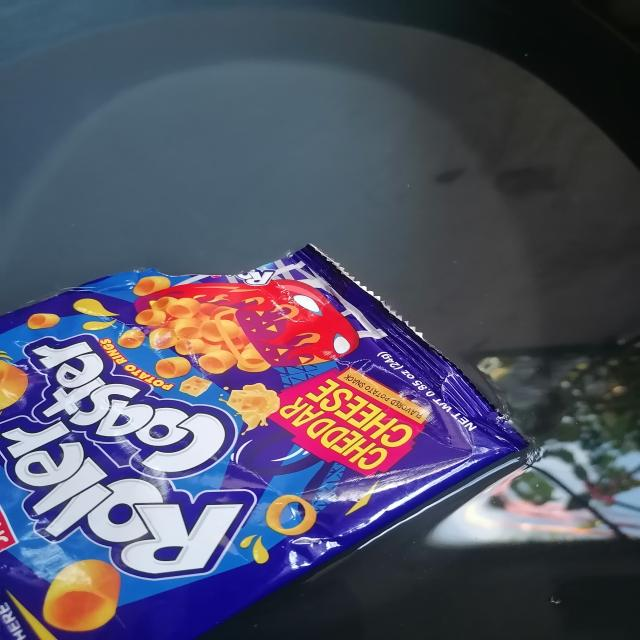Plastic Wrapper: (0, 230, 563, 640)
